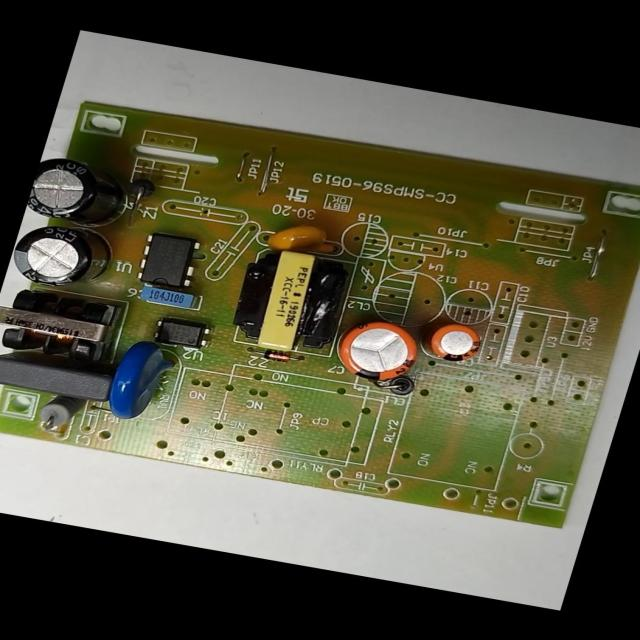Cap1: (326, 315, 427, 387)
Cap2: (423, 321, 488, 366)
Cap3: (5, 217, 124, 295)
Cap4: (23, 153, 138, 231)
MOSFET: (134, 229, 207, 289)
Mov: (101, 336, 184, 426)
Resistor: (32, 392, 88, 433)
Transformer: (225, 242, 356, 358), (0, 284, 124, 370)
